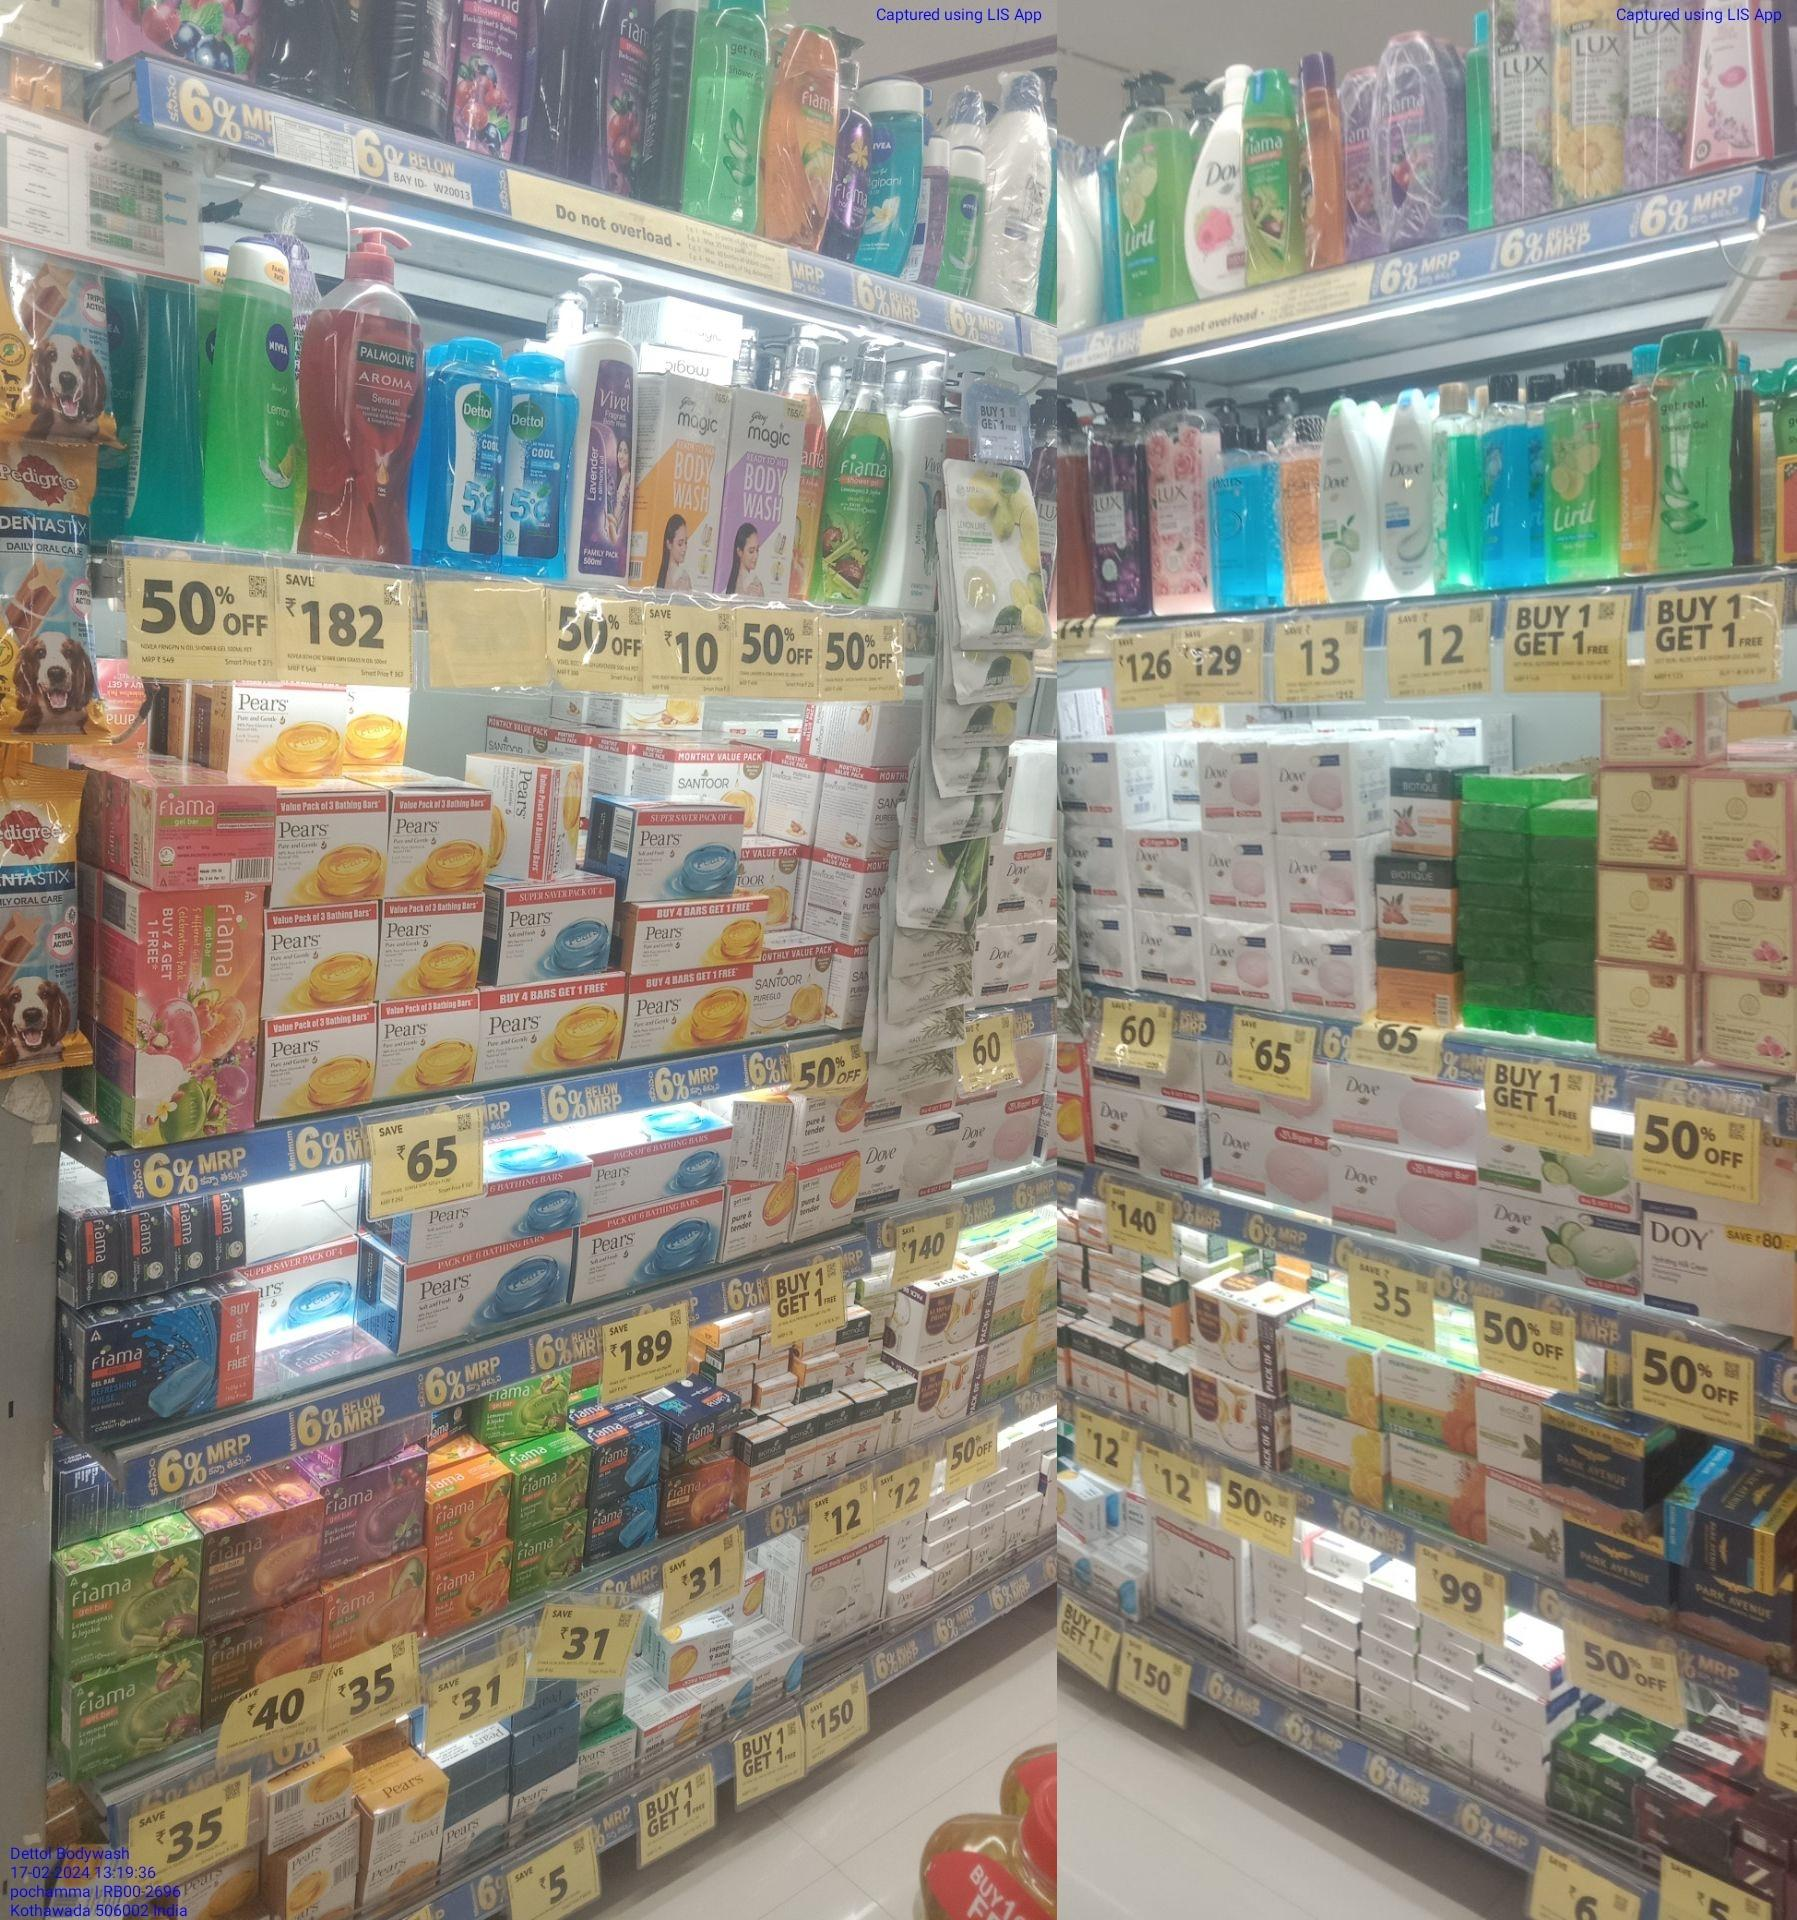Dettol_Bodywash_Cool: (419, 329, 507, 579), (507, 346, 566, 579)
Dove_Gentle_Exfoliating_Body_Wash_250ML: (1378, 388, 1439, 586)
Dove_Refreshing_Body_Wash_250ML: (1314, 400, 1370, 598)
Fiama_Shower_Gel_Lemongrass_and_Jojoba_250ML: (1238, 71, 1299, 274)
Fiama_Shower_Gel_Peach_and_Avocado_250ML: (772, 27, 829, 253)
Liril_Lime_and_Tea_Tree_Oil_Body_Wash_250ML: (1552, 358, 1616, 578)
Nivea_Shower_Gel_Lemon_and_Oil_250ML: (213, 240, 297, 545)
